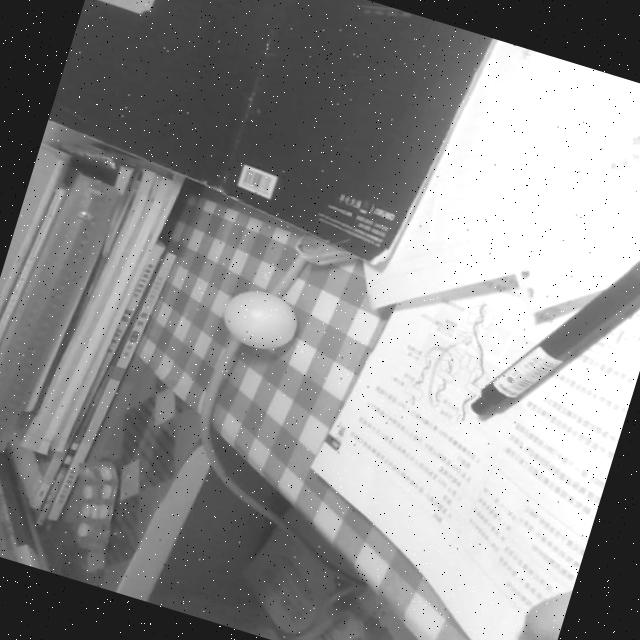ping-pong-ball: (214, 284, 302, 358)
